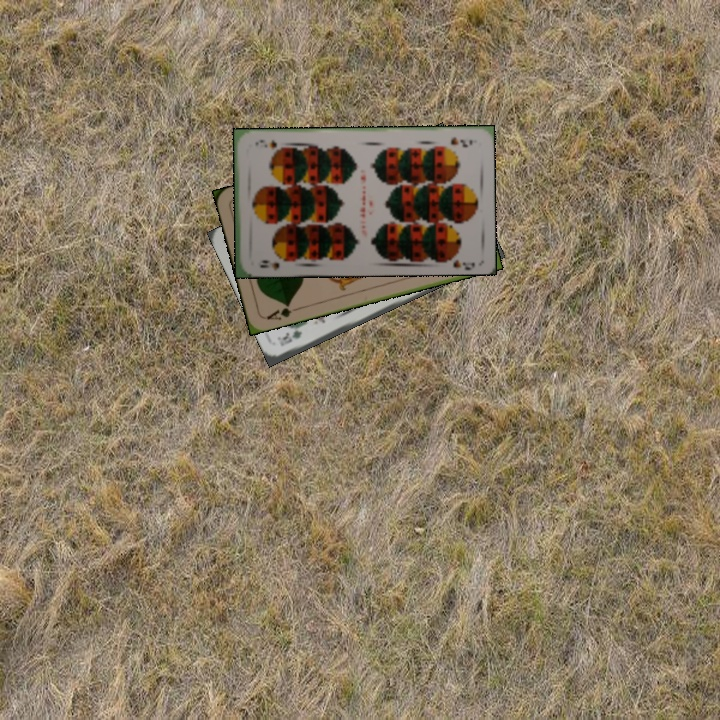GA: (263, 299, 301, 323)
GK: (274, 327, 305, 349)
S9: (256, 253, 291, 272), (446, 133, 475, 149)
